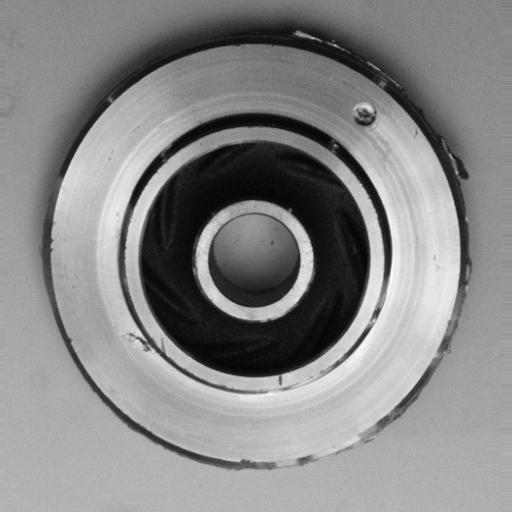casting_with_burr: (42, 21, 476, 477)
crack: (112, 325, 175, 365)
pit: (342, 95, 387, 134)
scratch: (239, 374, 339, 406)
